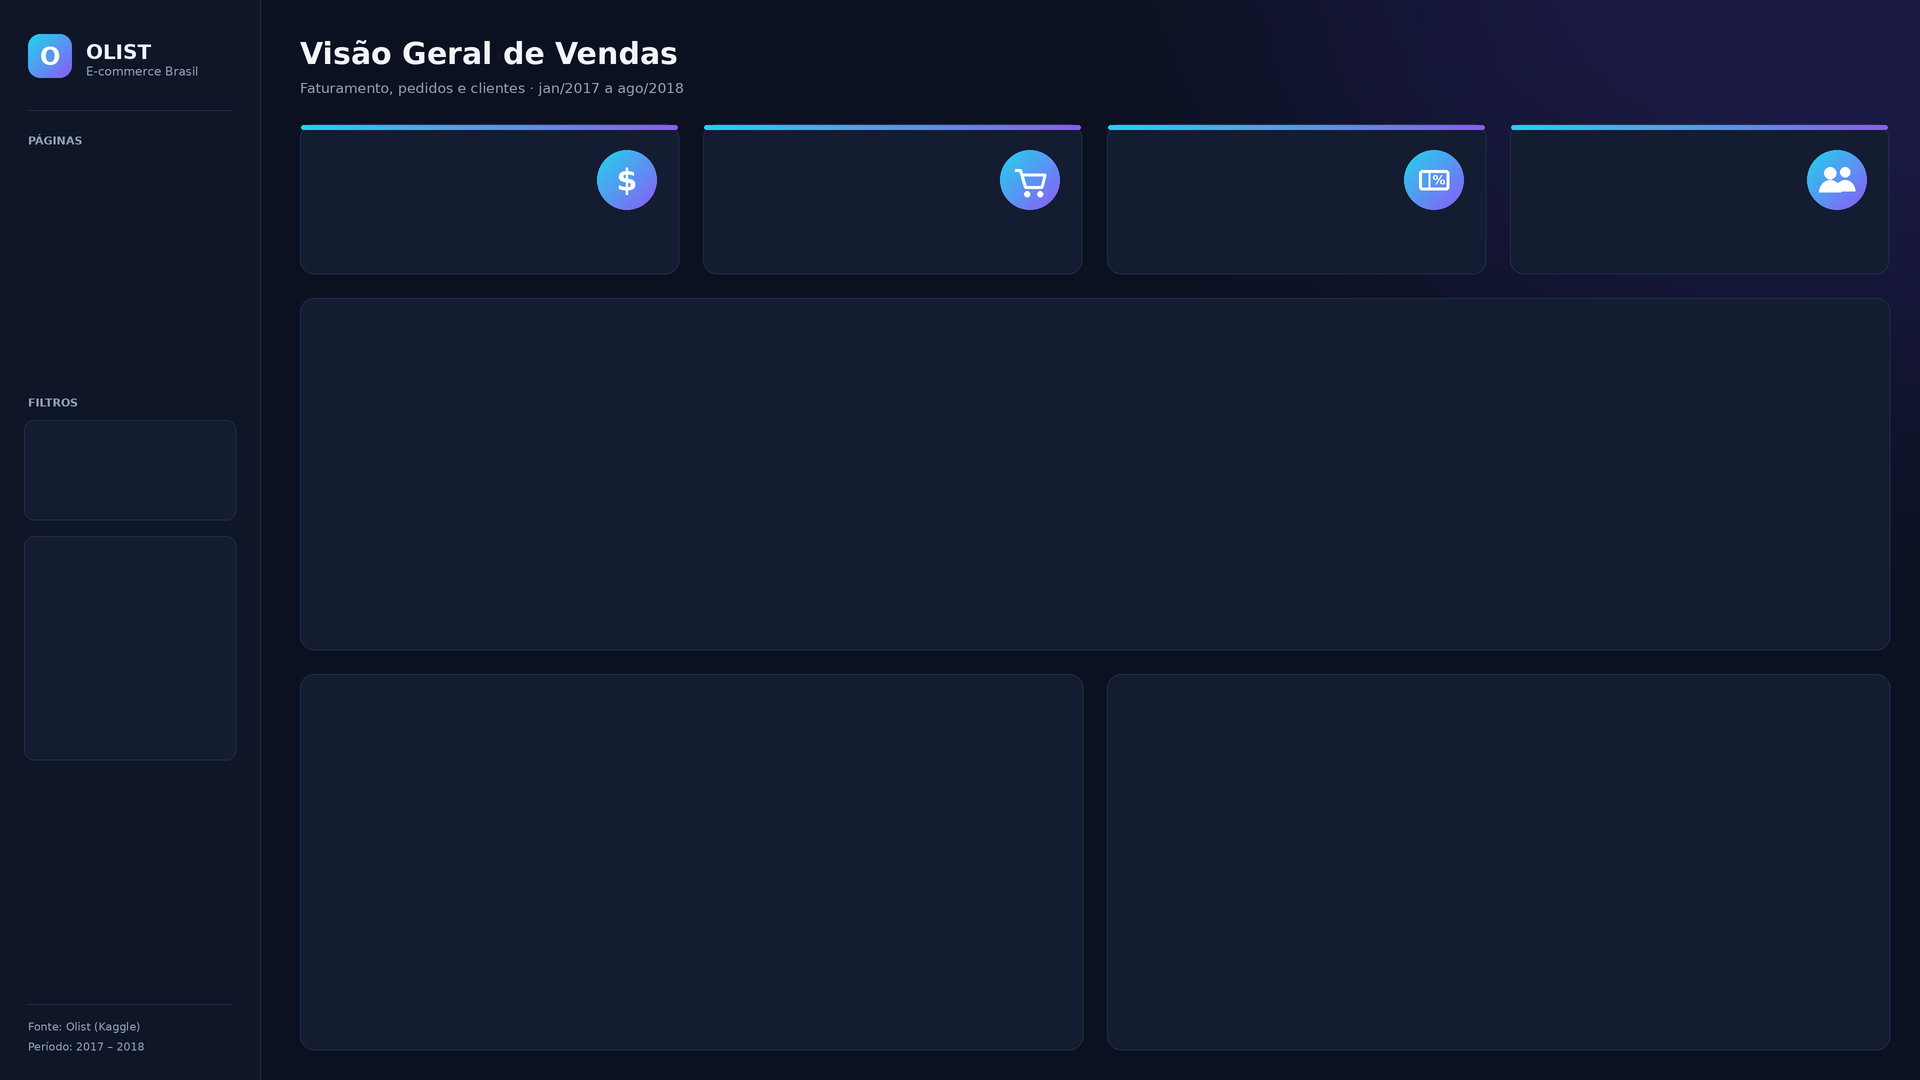

This screenshot's page, from the dashboard's own definition file:
{"tool":"powerbi","page":{"name":"Visão Geral","canvas":[1920,1080],"ordinal":0},"visuals":[{"type":"cardVisual","fields":{"Data":["_Medidas.Faturamento"]},"box":[320,135,275,115],"z":0},{"type":"cardVisual","fields":{"Data":["_Medidas.Pedidos"]},"box":[717.5,135,242.5,115],"z":1000},{"type":"cardVisual","fields":{"Data":["_Medidas.Clientes"]},"box":[1520,135,252.5,115],"z":2000},{"type":"cardVisual","fields":{"Data":["_Medidas.Ticket Médio"]},"box":[1135,135,237.5,115],"z":3000},{"type":"lineChart","title":"Evolução do Faturamento Mensal","fields":{"Category":["dCalendario.Ano-Mês"],"Y":["_Medidas.Faturamento"]},"box":[320,320,1556,300],"z":4000},{"type":"clusteredBarChart","title":"Top 10 Categorias","fields":{"Category":["dProdutos.Categoria"],"Y":["_Medidas.Faturamento"]},"box":[300,668,790,390],"z":5000},{"type":"barChart","title":"Top 10 Estados","fields":{"Category":["dClientes.customer_state"],"Y":["_Medidas.Faturamento"]},"box":[1094,668,790,390],"z":6000},{"type":"slicer","fields":{"Values":["dCalendario.Ano"]},"box":[28,428,204,88],"z":7000},{"type":"slicer","fields":{"Values":["dClientes.customer_state"]},"box":[27.1,539.3,204.5,211.7],"z":8000},{"type":"pageNavigator","box":[14,172,232,196],"z":9000}]}

Visuals, with their boxes on the page's 1920x1080 design canvas (x1, y1, x2, y2). These are canvas units, not pixel positions in the 1920x1080 screenshot, which may show the page scaled, cropped or inside an application window:
cardVisual - _Medidas.Faturamento: 320,135,595,250
cardVisual - _Medidas.Pedidos: 718,135,960,250
cardVisual - _Medidas.Clientes: 1520,135,1772,250
cardVisual - _Medidas.Ticket Médio: 1135,135,1372,250
"Evolução do Faturamento Mensal" lineChart: 320,320,1876,620
"Top 10 Categorias" clusteredBarChart: 300,668,1090,1058
"Top 10 Estados" barChart: 1094,668,1884,1058
slicer - dCalendario.Ano: 28,428,232,516
slicer - dClientes.customer_state: 27,539,232,751
pageNavigator: 14,172,246,368
